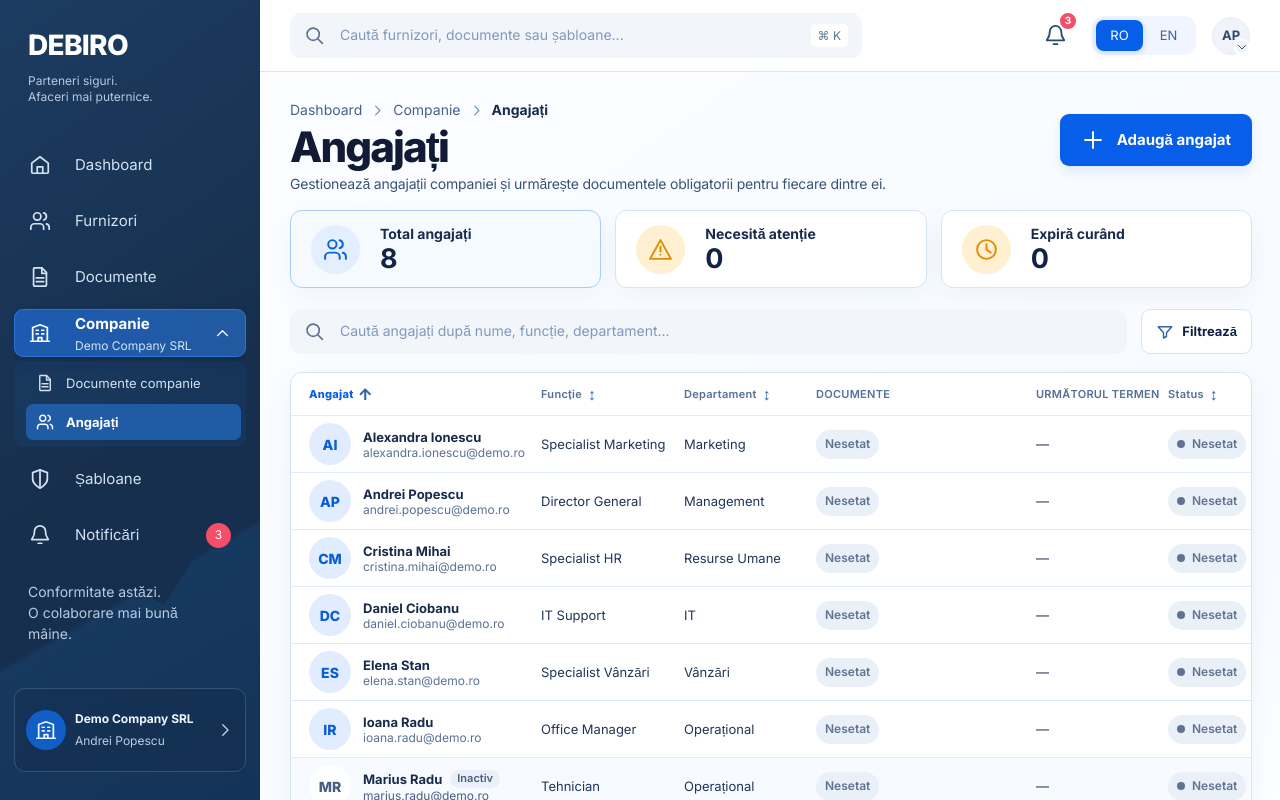
Test case: Employees shared list/drawer UI › renders localized shared list controls and truthful employee/document states in ro
Expected: the heading reads "Angajați", [290,121,448,172]
Expected: the text "Angajați" is shown, [492,100,548,120]
Step 1. Click the button "Filtrează" → click(1197, 332), box [1141,309,1252,354]
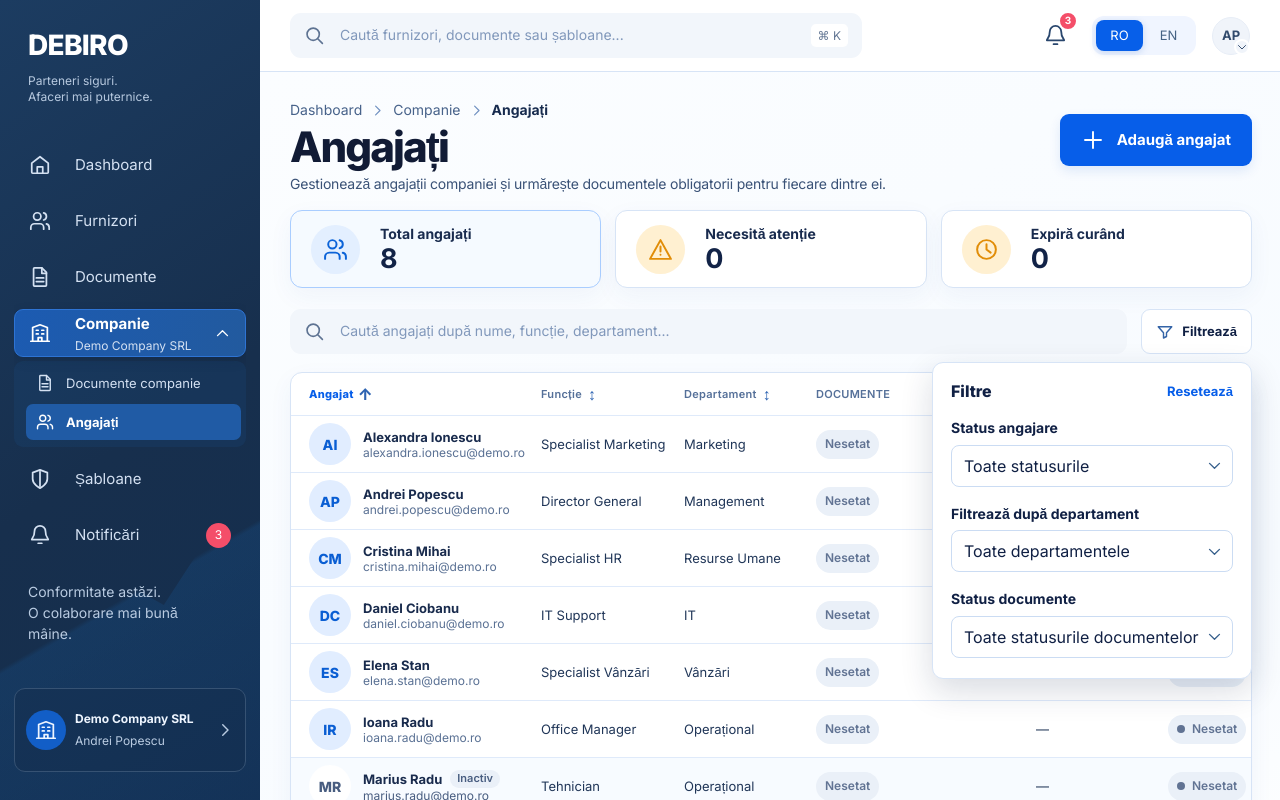
Now the dropdown labelled "Filtrează după departament" is shown, box [951,530,1233,572]
